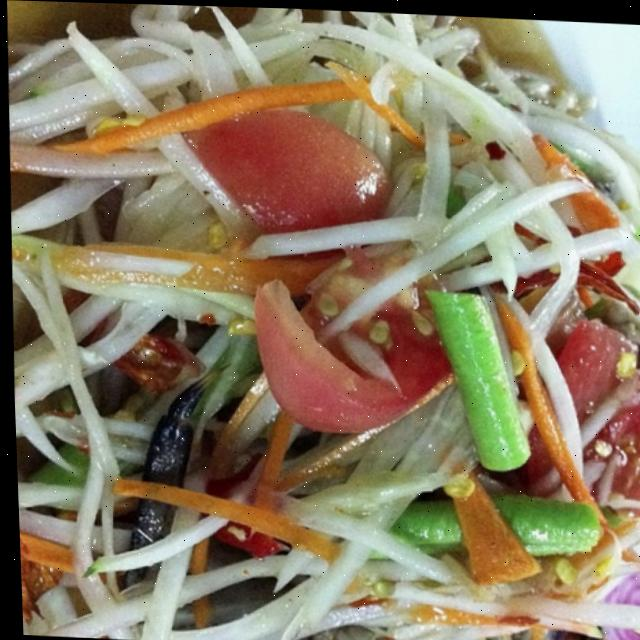蔬菜料理: (0, 16, 640, 640)
